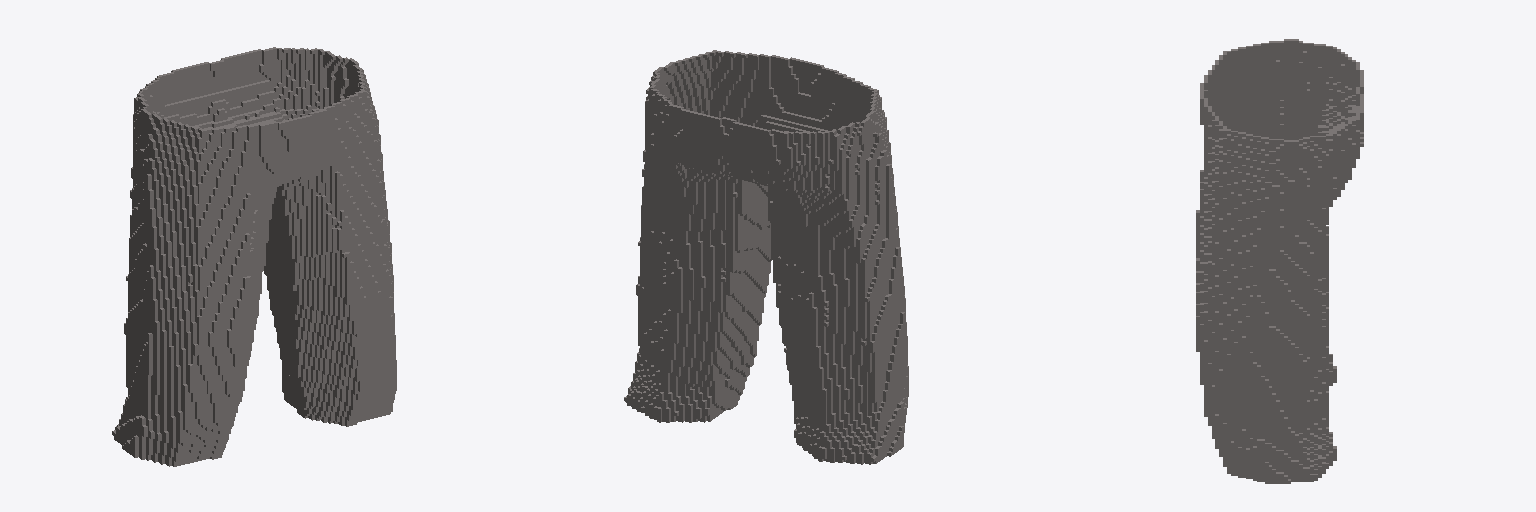
3 renders of one model, left to right at view 1: azimuth 30°, elevation 25°; view 2: azimuth 150°, elevation 25°; view 3: azimuth 270°, elevation 25°, orthographic.
Parts seen in each view (by area): view 1: object 1; view 2: object 1; view 3: object 1.
Boxes of the visible parts, <box> form: object 1: <box>112,47,396,466</box>; object 1: <box>624,50,908,464</box>; object 1: <box>1196,39,1363,483</box>.
Size of the model in its own units: 7.8 by 9.6 by 4.4.
Materials: 1 (1 with a texture image).